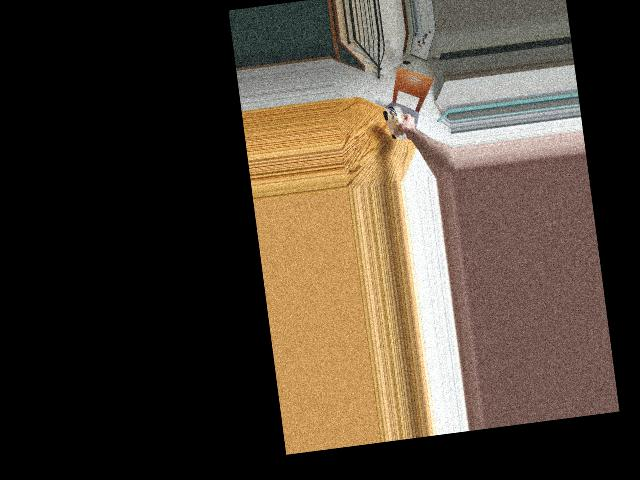cheese: (382, 105, 409, 141)
